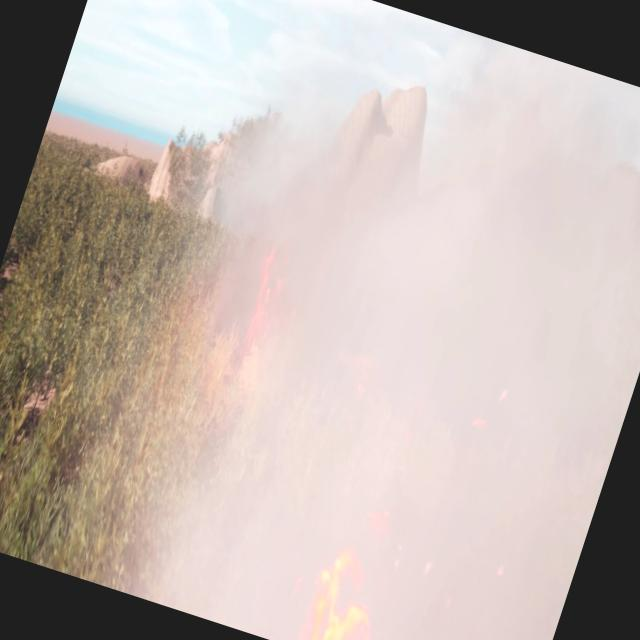fire: (289, 520, 408, 640), (222, 235, 308, 372)
smoke: (87, 0, 640, 640)
